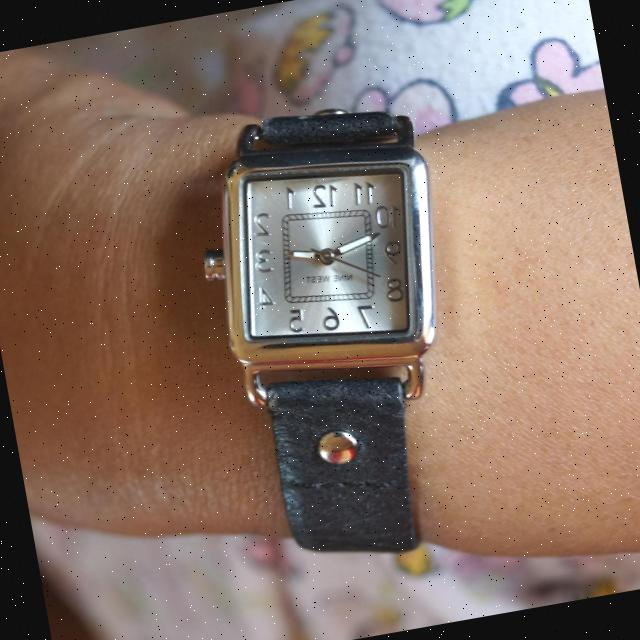Wrist watch: (177, 92, 493, 581)
